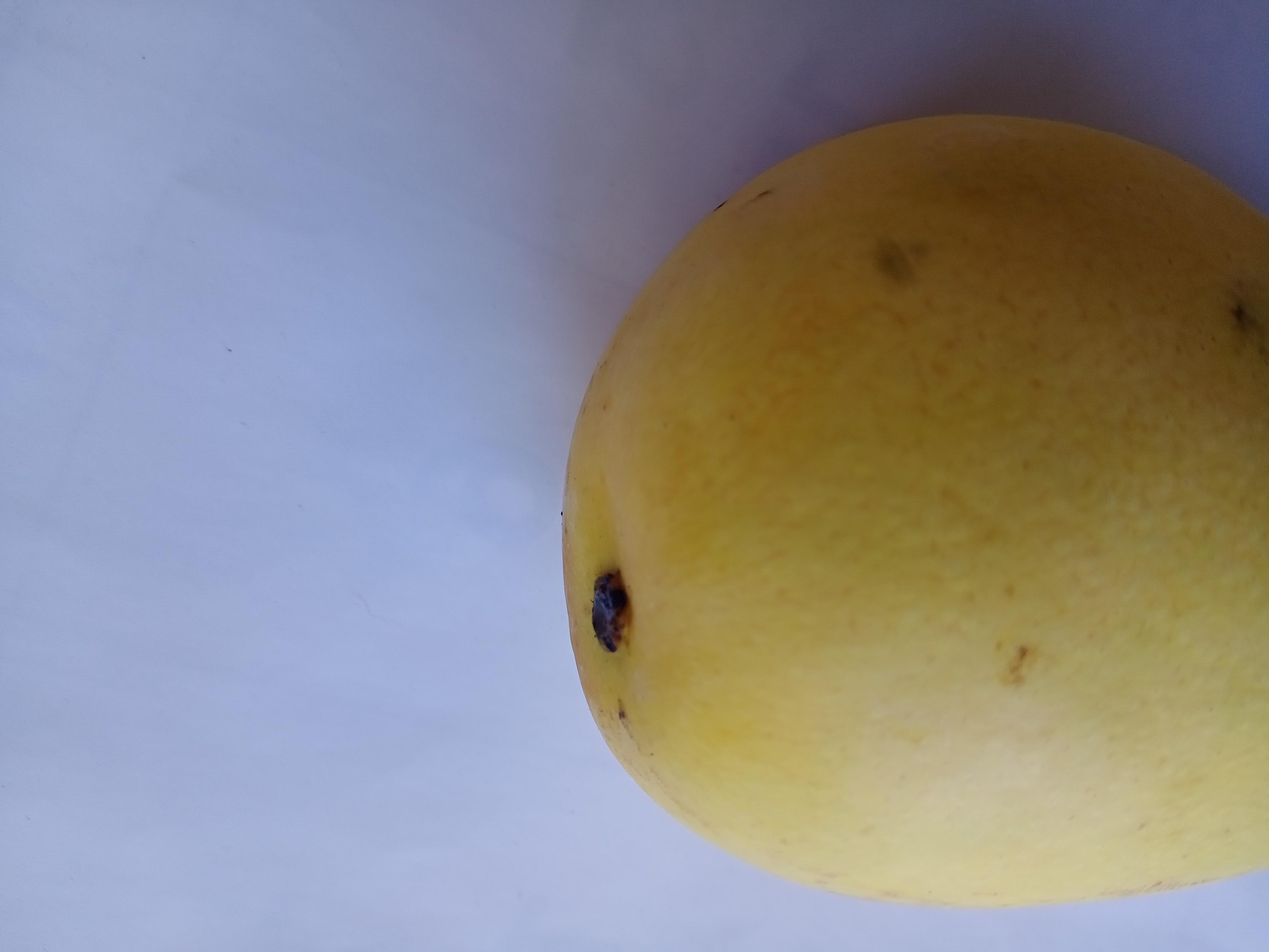Mango Ripe: (520, 72, 1269, 931)
